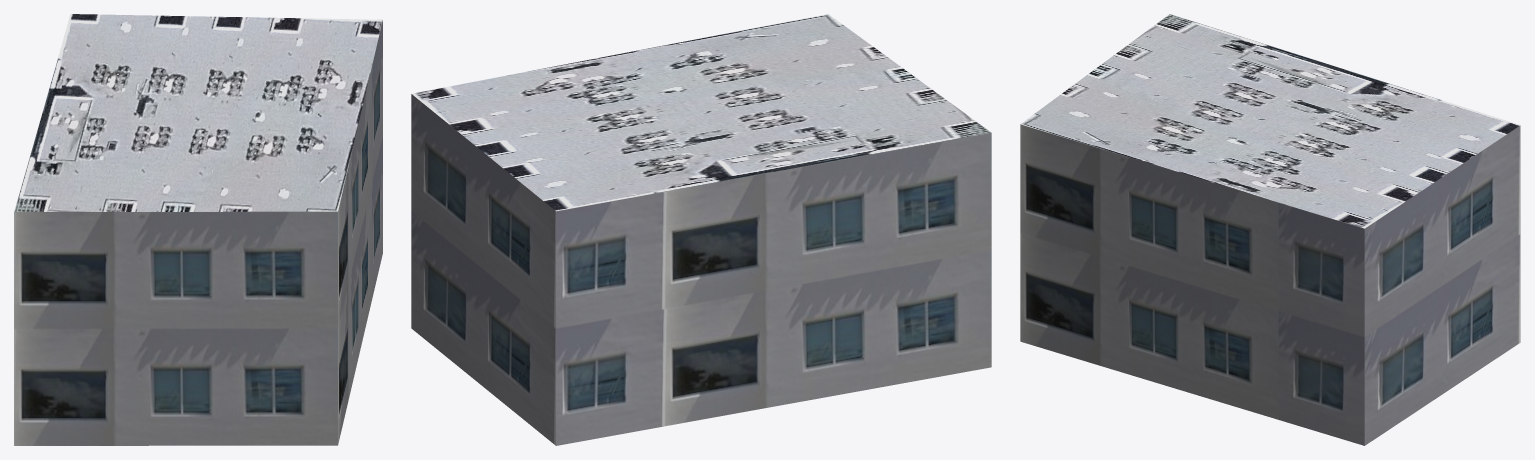
Rendered from ResTex__3469.fbx.
3 views of the same model, side by side, from view 1: azimuth 30°, elevation 25°; view 2: azimuth 150°, elevation 25°; view 3: azimuth 270°, elevation 25° (orthographic). The views are drawn at different scales.
Visible parts, largest first — view 1: CityEngineMaterial_10_m, CityEngineMaterial_4_m; view 2: CityEngineMaterial_10_m, CityEngineMaterial_4_m; view 3: CityEngineMaterial_10_m, CityEngineMaterial_4_m.
Boxes of the visible parts, x1,y1,x2,y2 form: CityEngineMaterial_10_m: [14, 20, 382, 445]; CityEngineMaterial_4_m: [14, 14, 382, 211]; CityEngineMaterial_10_m: [411, 94, 991, 445]; CityEngineMaterial_4_m: [411, 14, 990, 211]; CityEngineMaterial_10_m: [1020, 124, 1520, 445]; CityEngineMaterial_4_m: [1020, 14, 1520, 228].
Size of the model in its own units: 12.71 by 6 by 12.53.
2 materials, 2 textured.
